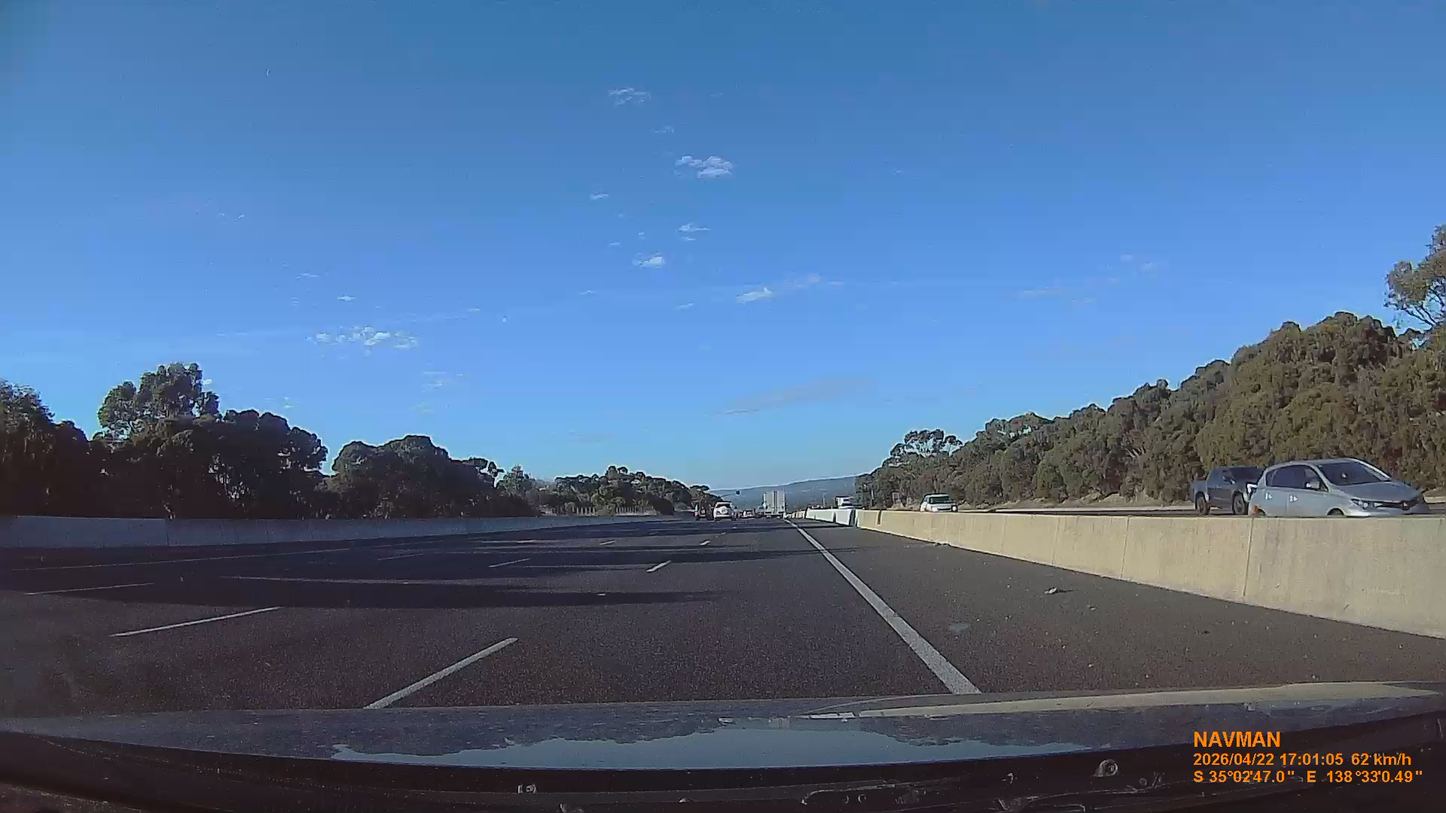road barriers: (807, 510, 1445, 636), (0, 516, 649, 549)
